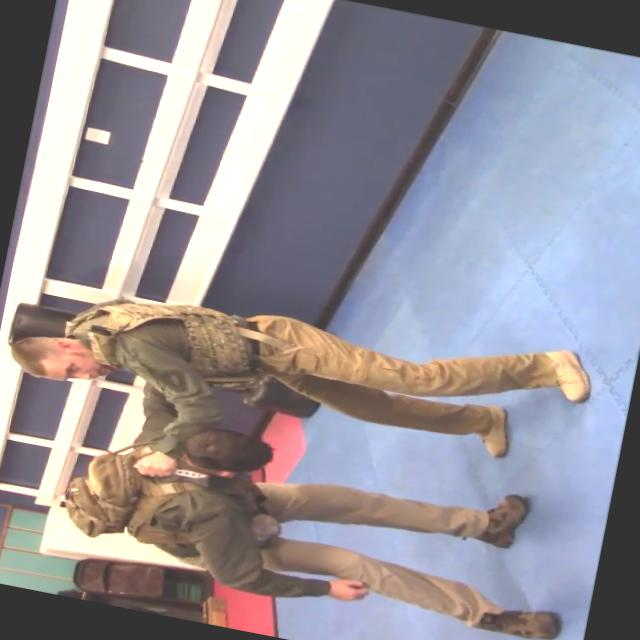knife: (174, 464, 222, 486)
